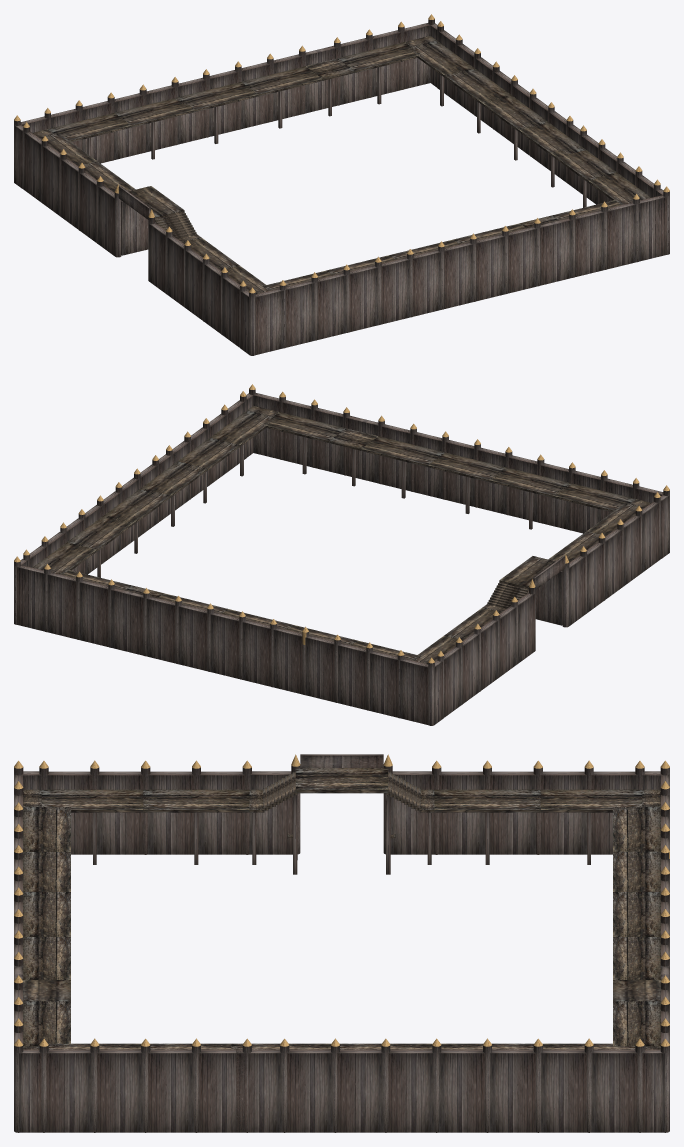
The model's file is WoodenDoor.FBX.
3 renders of one model, top to bottom at view 1: azimuth 30°, elevation 25°; view 2: azimuth 150°, elevation 25°; view 3: azimuth 270°, elevation 25°, orthographic. The views are drawn at different scales.
Parts seen in each view (by area): view 1: Wall, DoorLeft; view 2: Wall, DoorRight; view 3: Wall.
Boxes of the visible parts, bbox=[...] form: Wall: bbox=[14, 14, 669, 355]; DoorLeft: bbox=[121, 201, 148, 255]; Wall: bbox=[14, 384, 669, 725]; DoorRight: bbox=[535, 570, 562, 625]; Wall: bbox=[14, 754, 669, 1132].
Size of the model in its own units: 367 by 361 by 59.96.
4 materials, 4 textured.
